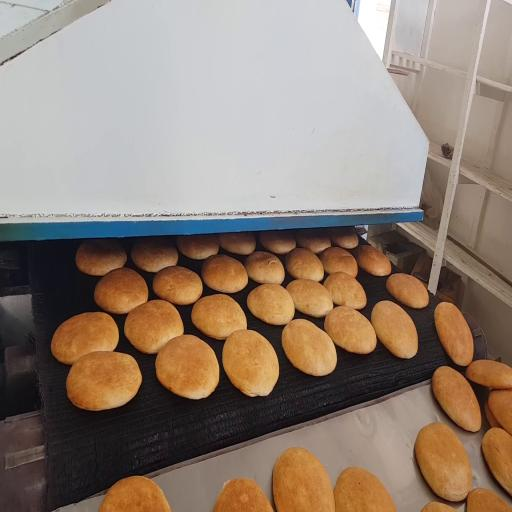bread: (66, 352, 142, 410), (415, 423, 471, 501), (156, 335, 219, 399), (273, 448, 335, 511), (223, 330, 279, 396), (51, 312, 118, 364), (432, 366, 481, 431), (124, 300, 183, 353), (282, 320, 337, 376), (334, 467, 396, 511), (371, 301, 418, 358), (99, 476, 171, 511), (324, 306, 376, 354), (94, 268, 148, 314), (191, 294, 246, 339), (435, 302, 473, 366), (482, 428, 511, 495), (247, 284, 294, 325), (153, 266, 202, 305), (214, 479, 273, 511), (76, 239, 127, 275), (286, 279, 333, 317), (202, 255, 247, 293), (131, 237, 178, 272), (324, 273, 366, 309), (386, 274, 429, 308), (466, 360, 511, 389), (285, 248, 324, 281), (244, 252, 284, 284), (320, 247, 357, 277), (466, 488, 511, 511), (357, 246, 391, 276), (488, 390, 511, 434), (177, 235, 218, 259), (218, 232, 256, 255), (296, 229, 330, 254), (259, 231, 295, 254), (330, 227, 358, 248), (484, 400, 502, 428), (421, 502, 454, 511)
